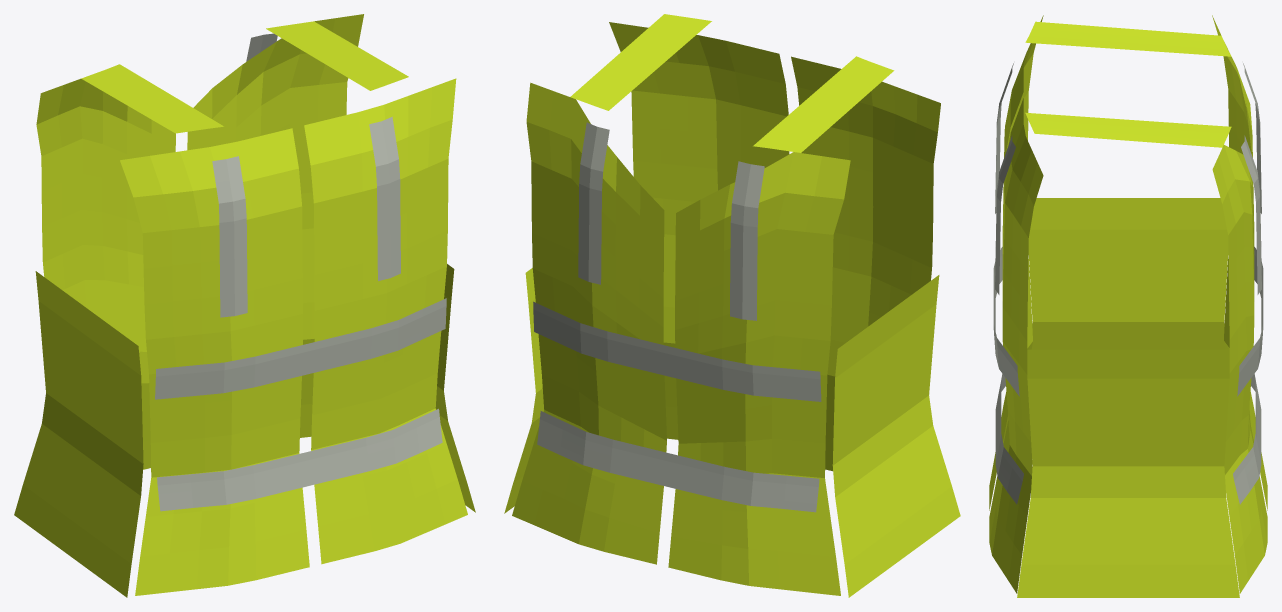
Rendered from lwf_steward_male_overlay_v1.glb.
3 renders of one model, left to right at view 1: azimuth 30°, elevation 25°; view 2: azimuth 150°, elevation 25°; view 3: azimuth 270°, elevation 25°, orthographic.
Visible parts, largest first — view 1: LWF_Steward_Male_Overlay; view 2: LWF_Steward_Male_Overlay; view 3: LWF_Steward_Male_Overlay.
Boxes of the visible parts, x1,y1,x2,y2 form: LWF_Steward_Male_Overlay: (14,14,475,597); LWF_Steward_Male_Overlay: (504,14,960,597); LWF_Steward_Male_Overlay: (989,15,1267,597).
Bounding box in the file's own units: 0.3587 × 0.436 × 0.2519.
1 material, 1 textured.
